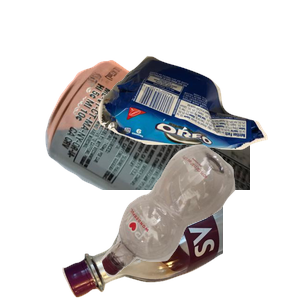glass: (60, 180, 300, 300)
metal: (43, 58, 283, 238)
plastic: (99, 142, 300, 300)
trash: (95, 53, 300, 195)
